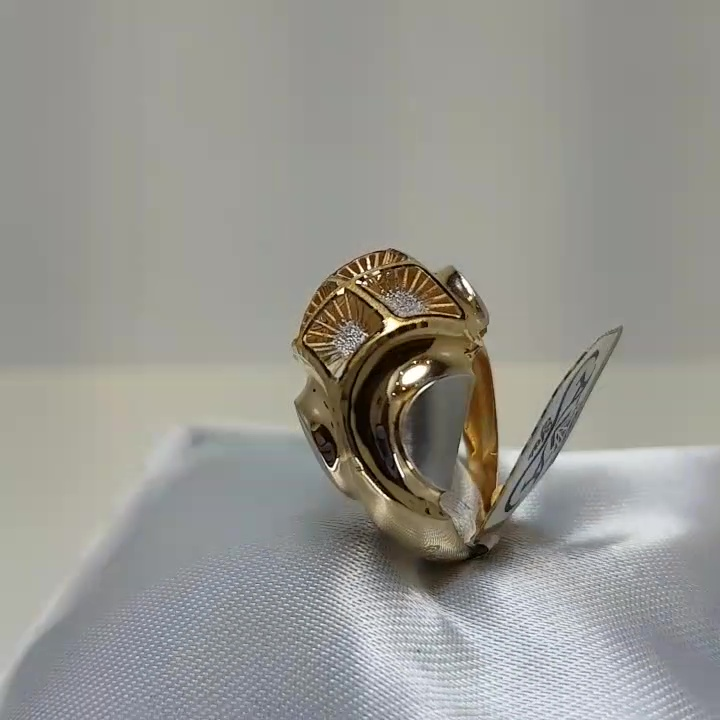Ring 2: (269, 222, 516, 575)
